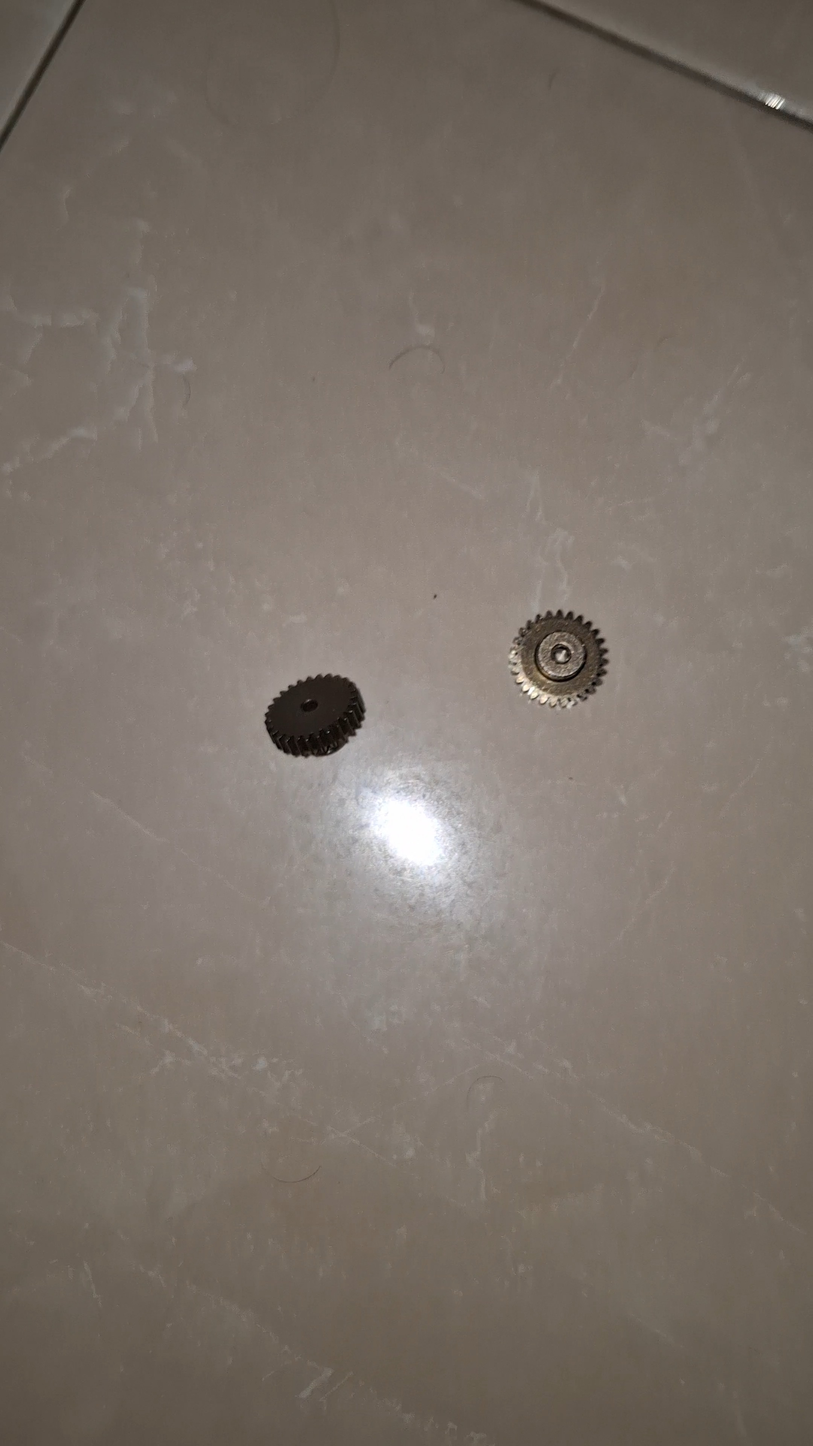spur gear: (509, 610, 607, 706), (266, 675, 364, 756)
